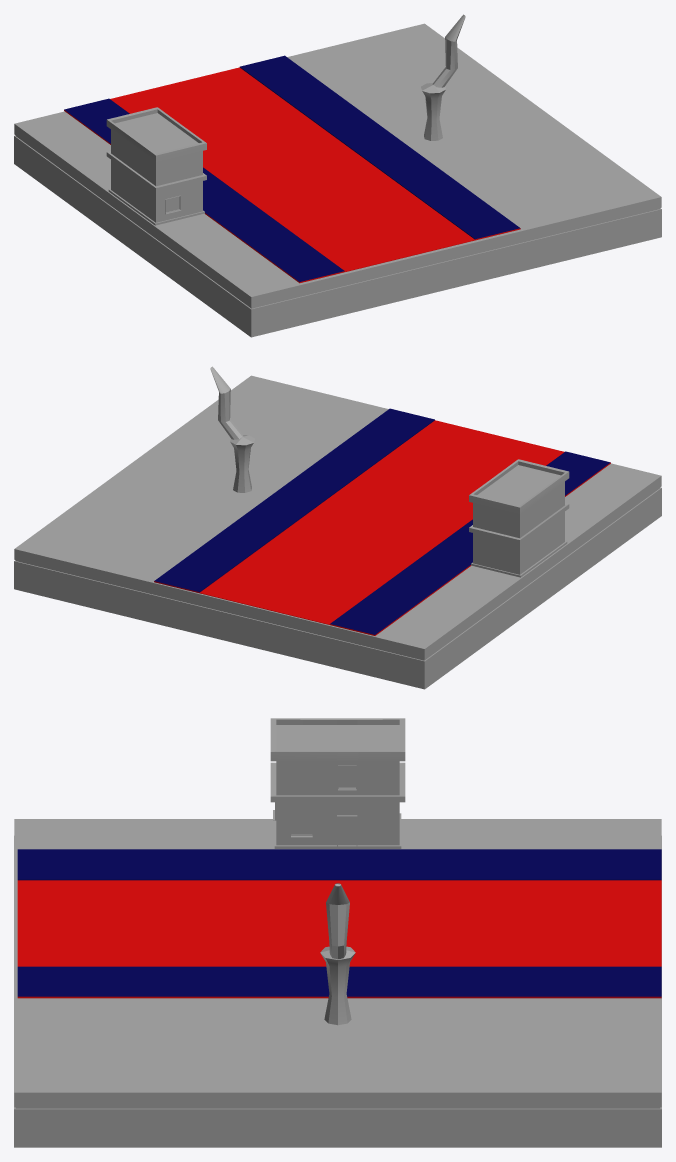
Rendered from Island_Sandbox.fbx.
3 views of the same model, one above another, from view 1: azimuth 30°, elevation 25°; view 2: azimuth 150°, elevation 25°; view 3: azimuth 270°, elevation 25° (orthographic). The views are drawn at different scales.
Visible parts, largest first — view 1: pCube5, Road, House_01, pCylinder2, pCylinder1; view 2: pCube5, Road, House_01, pCylinder2, pCylinder1; view 3: pCube5, Road, House_01, pCylinder2, pCylinder1.
Boxes of the visible parts, x1,y1,x2,y2 form: pCube5: (14, 23, 661, 337); Road: (64, 55, 520, 283); House_01: (106, 107, 206, 225); pCylinder2: (421, 83, 445, 140); pCylinder1: (432, 14, 465, 87); pCube5: (14, 375, 661, 689); Road: (154, 408, 610, 635); House_01: (469, 459, 569, 577); pCylinder2: (230, 435, 254, 492); pCylinder1: (210, 366, 243, 439); pCube5: (14, 819, 661, 1147); Road: (17, 849, 661, 998); House_01: (270, 718, 405, 848); pCylinder2: (320, 946, 355, 1025); pCylinder1: (326, 883, 349, 959).
Size of the model in its own units: 40.17 by 14.44 by 40.04.
